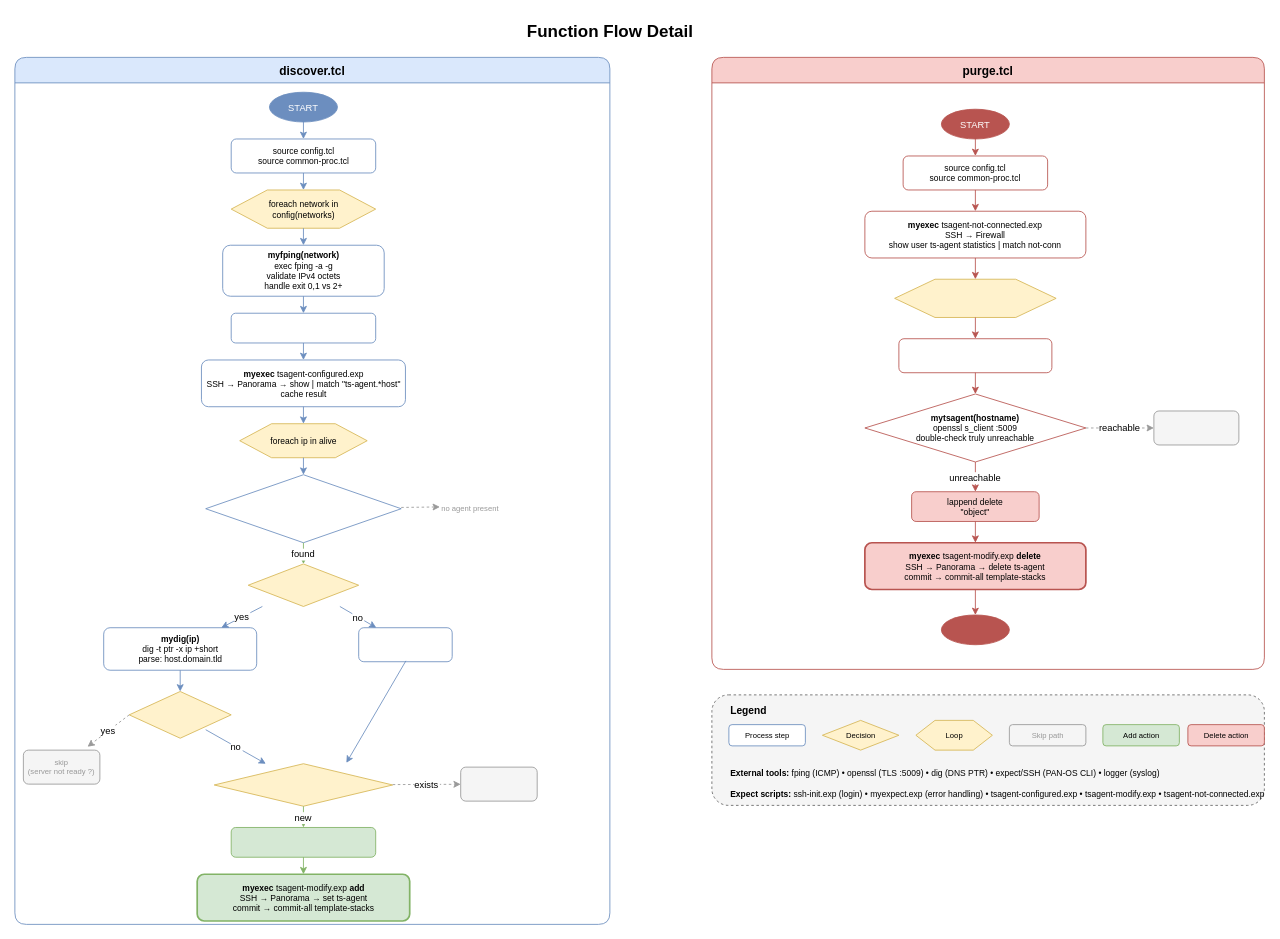
The diagram is 1280 pixels wide and 939 high, and some of its shapes have lost their labels. The shapes that lost their labels are listed below. From the top down, each one's box as (x1, y1, x2, y2) in pixels, then its label:
(894, 278, 1056, 317): foreach line in output match "*not-conn:*"
(230, 312, 376, 343): lsort -unique alive IPs
(898, 338, 1052, 373): parse object [lindex 0] parse hostname [lindex 1]
(1153, 410, 1239, 445): keep (momentary glitch ?)
(205, 474, 401, 543): mytsagent(ip) openssl s_client :5009 match "Terminal Server Agent"
(247, 563, 359, 606): config(dns)?
(358, 627, 452, 662): use IP as agent_name
(941, 614, 1009, 645): END
(128, 691, 231, 738): hostname empty?
(213, 763, 393, 806): string match agent in panorama cache?
(460, 766, 537, 801): skip (already defined)
(230, 827, 376, 857): lappend add "object,hostname"
